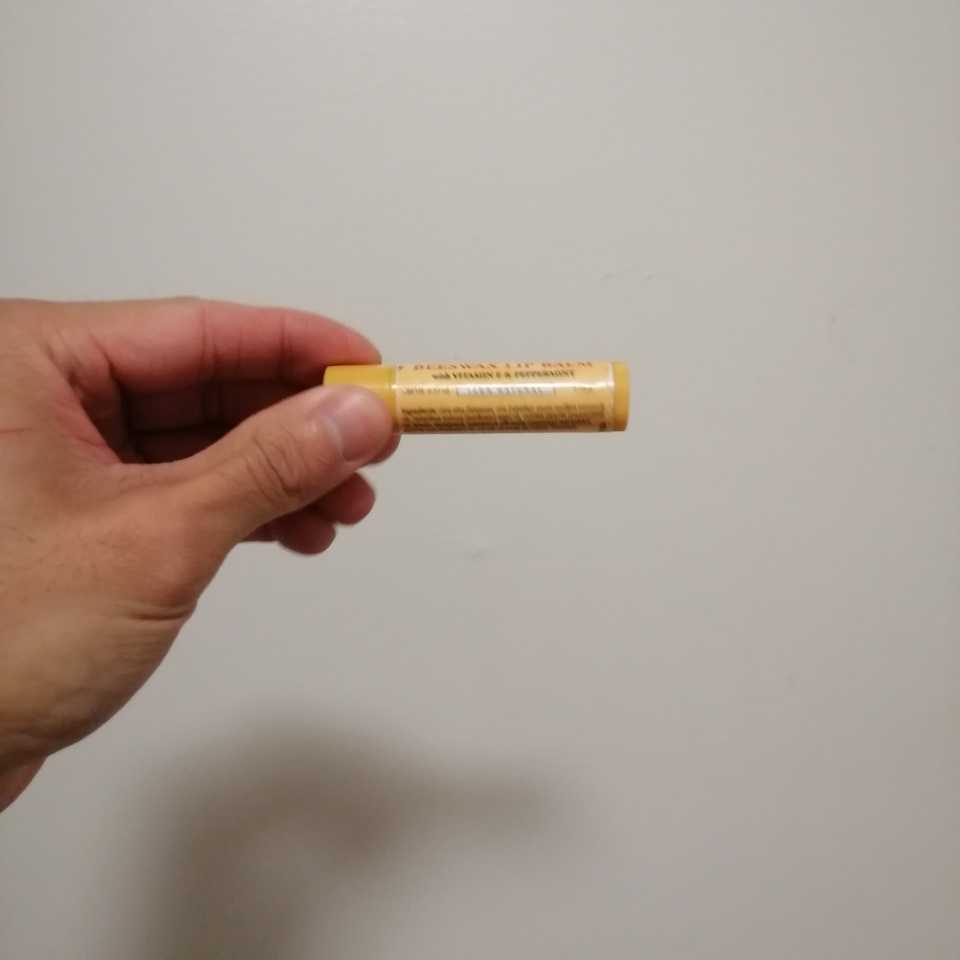chapstick: (323, 359, 630, 435)
